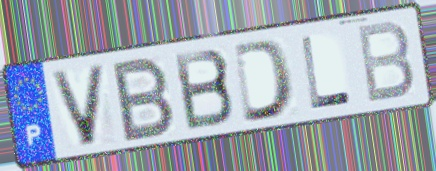B: (111, 53, 178, 145), (170, 46, 238, 134), (353, 18, 417, 106)
D: (231, 36, 297, 126)
L: (298, 33, 356, 112)
V: (47, 62, 109, 150)
